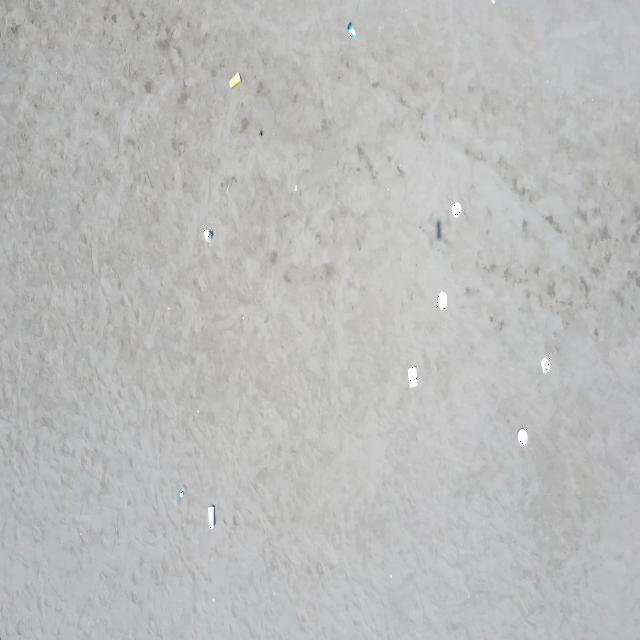take-away-containers: (408, 364, 418, 389), (451, 200, 462, 219), (540, 358, 551, 376), (436, 291, 446, 309), (518, 427, 528, 445)
takeaway-cup: (172, 484, 186, 508), (229, 72, 241, 88), (208, 505, 215, 530), (348, 22, 356, 40), (204, 228, 212, 242)
